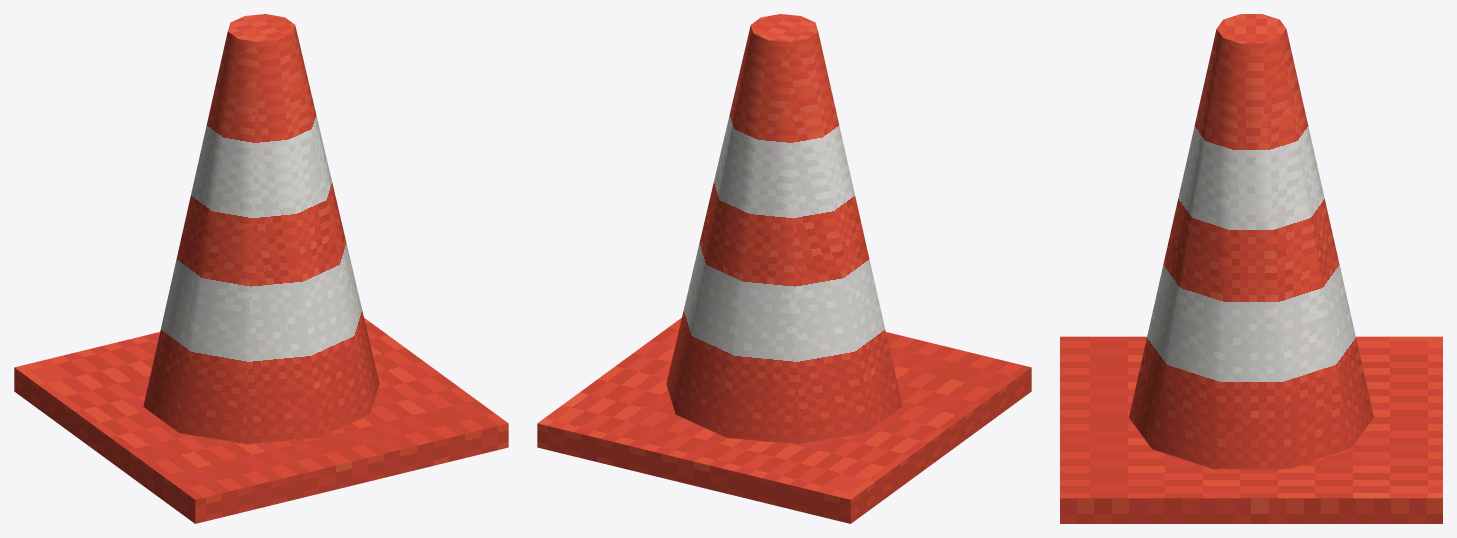
Rendered from Traffic_Cone_2.glb.
3 views of the same model, side by side, from view 1: azimuth 30°, elevation 25°; view 2: azimuth 150°, elevation 25°; view 3: azimuth 270°, elevation 25° (orthographic). The views are drawn at different scales.
Parts seen in each view (by area): view 1: Traffic_Cone_2; view 2: Traffic_Cone_2; view 3: Traffic_Cone_2.
Part boxes in pixels (<box>): Traffic_Cone_2: <box>14,14,508,523</box>; Traffic_Cone_2: <box>537,14,1031,523</box>; Traffic_Cone_2: <box>1060,14,1442,523</box>.
Bounding box in the file's own units: 0.625 × 0.746 × 0.625.
1 material, 1 textured.
